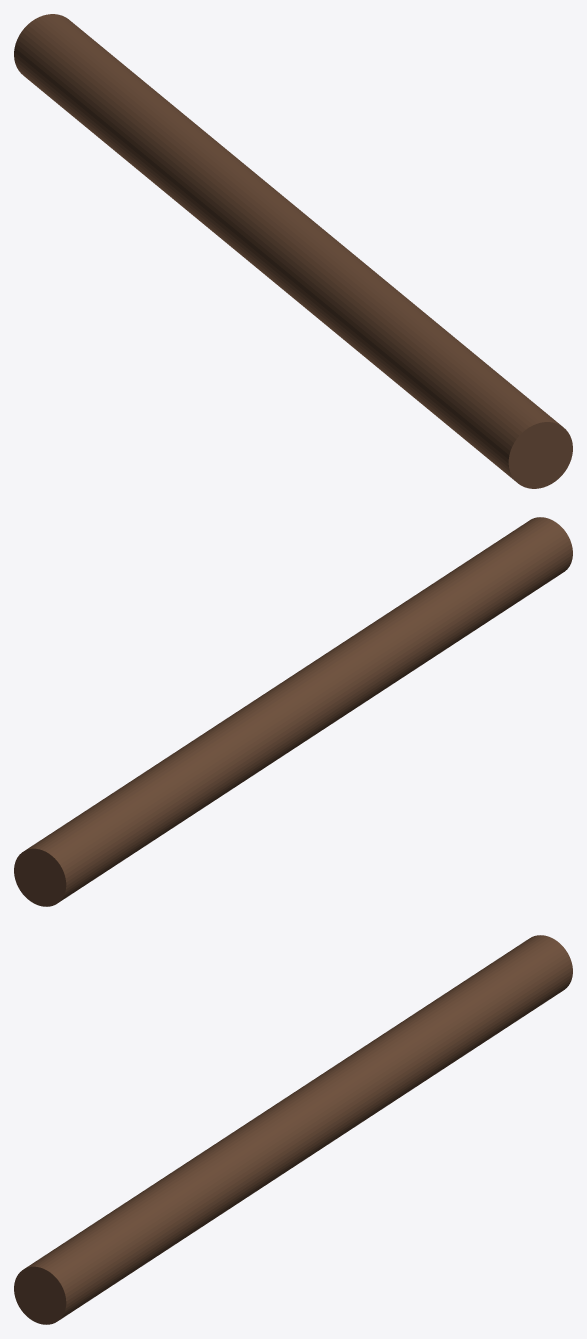
File: log.glb
3 renders of one model, top to bottom at view 1: azimuth 30°, elevation 25°; view 2: azimuth 150°, elevation 25°; view 3: azimuth 330°, elevation 25°, orthographic. The views are drawn at different scales.
Parts seen in each view (by area): view 1: Cylinder; view 2: Cylinder; view 3: Cylinder.
Boxes of the visible parts, x1=… form: Cylinder: x1=14, y1=14, x2=572, y2=488; Cylinder: x1=14, y1=517, x2=572, y2=906; Cylinder: x1=14, y1=935, x2=572, y2=1324.
Bounding box in the file's own units: 3.49 × 2 × 30.06.
